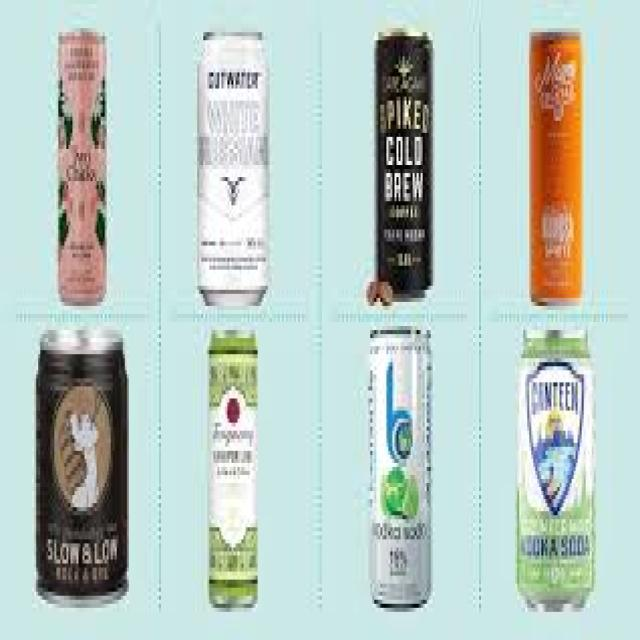Cans: (32, 322, 133, 608), (193, 20, 278, 314), (360, 318, 441, 620), (517, 318, 596, 620), (366, 16, 441, 306), (201, 322, 266, 620), (525, 16, 590, 310), (52, 24, 111, 310)
